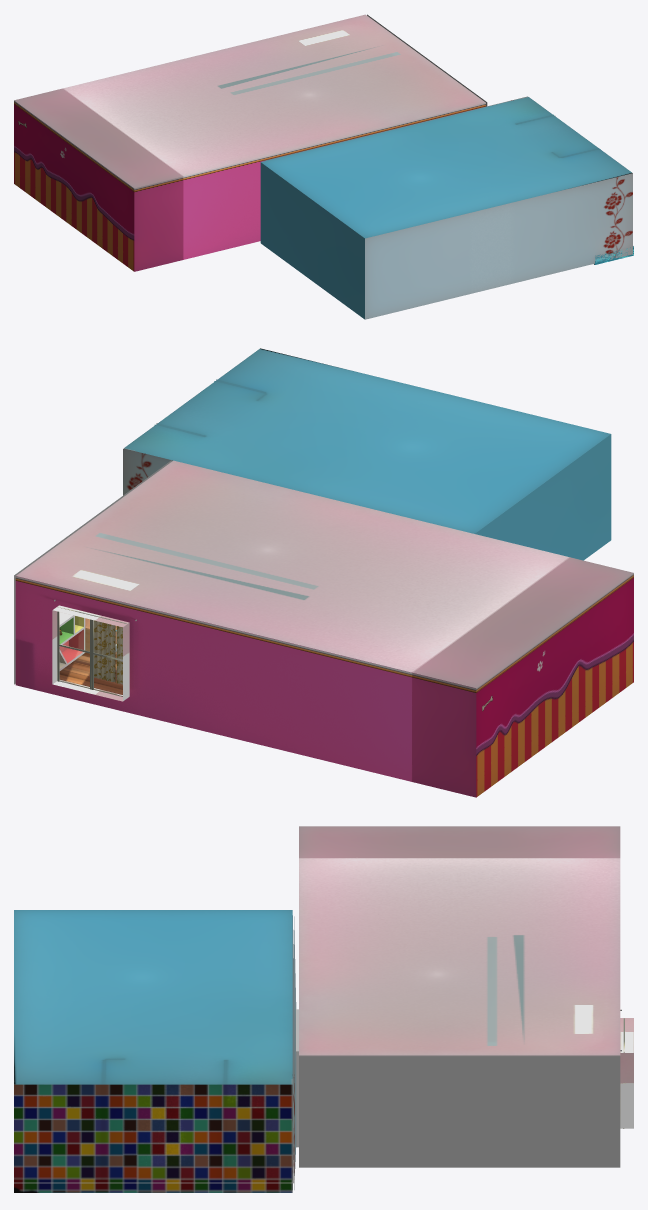
The model's file is petting room test.fbx.
3 renders of one model, top to bottom at view 1: azimuth 30°, elevation 25°; view 2: azimuth 150°, elevation 25°; view 3: azimuth 270°, elevation 25°, orthographic. The views are drawn at different scales.
Parts seen in each view (by area): view 1: polySurface65, polySurface43; view 2: polySurface65, polySurface43, polySurface101, polySurface40; view 3: polySurface65, polySurface42, polySurface101, polySurface43, polySurface40.
Boxes of the visible parts, x1,y1,x2,y2 form: polySurface65: (14, 14, 632, 319); polySurface43: (14, 100, 485, 271); polySurface65: (16, 348, 633, 701); polySurface43: (15, 573, 633, 797); polySurface101: (54, 379, 216, 696); polySurface40: (123, 449, 172, 495); polySurface65: (14, 826, 633, 1192); polySurface42: (299, 1056, 620, 1167); polySurface101: (14, 1009, 624, 1183); polySurface43: (299, 1055, 620, 1056); polySurface40: (294, 916, 296, 1189).
Bounding box in the file's own units: 1.73 × 0.3572 × 1.77.
